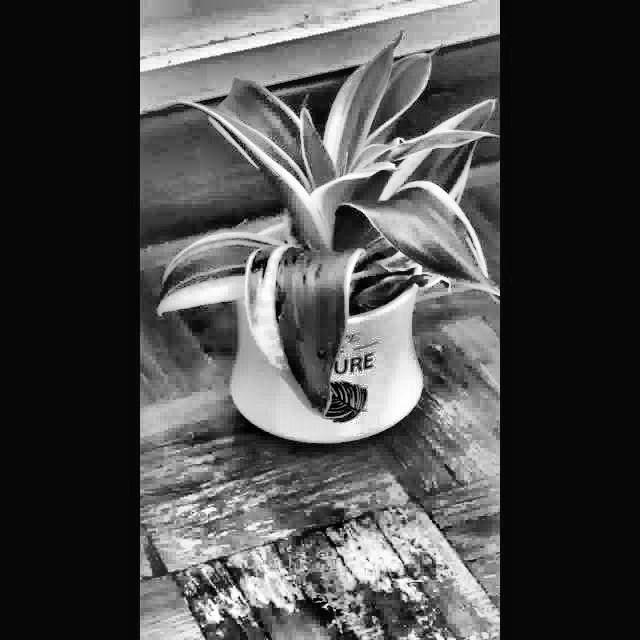plants: (162, 31, 500, 466)
